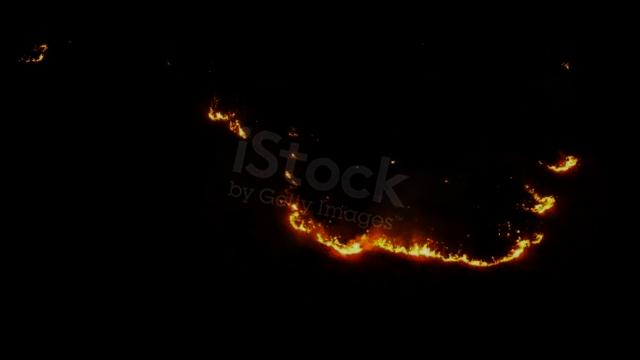fire: (366, 229, 506, 285), (276, 196, 374, 258), (195, 90, 258, 138), (514, 177, 560, 221), (534, 141, 585, 179), (502, 222, 544, 268), (20, 38, 48, 66)
